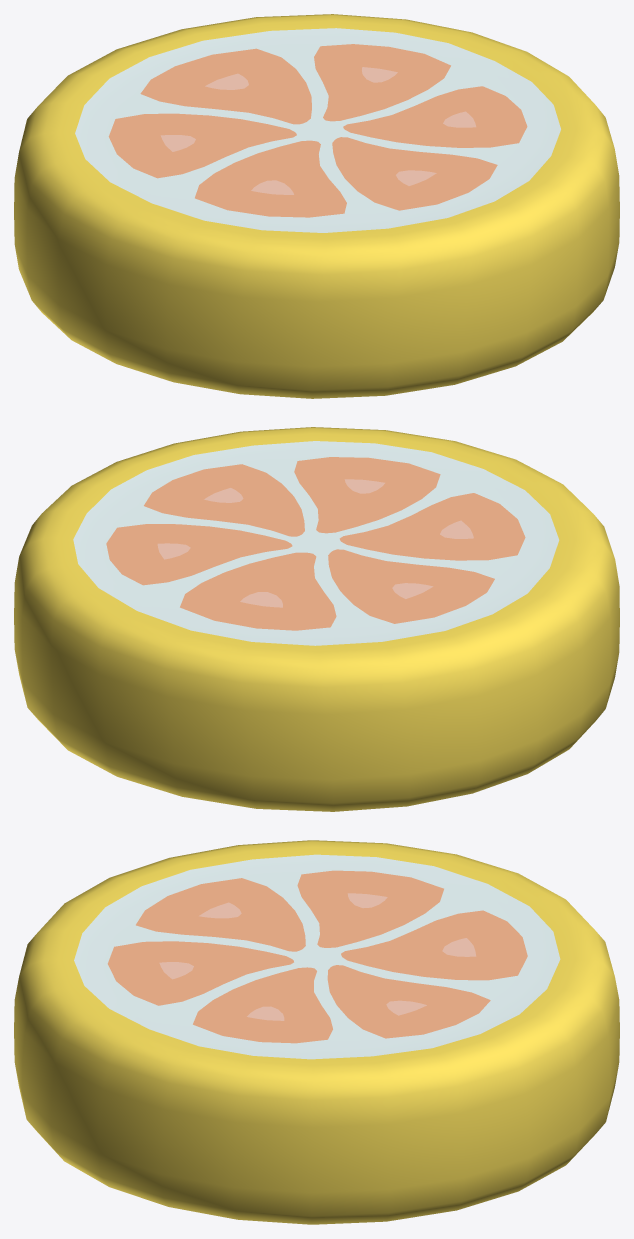
The model's file is Gummy_C_01.fbx.
The picture shows the model from 3 angles, top to bottom: view 1: azimuth 30°, elevation 25°; view 2: azimuth 150°, elevation 25°; view 3: azimuth 270°, elevation 25°; orthographic projection.
Parts seen in each view (by area): view 1: Gummy_C_01_LOD0; view 2: Gummy_C_01_LOD0; view 3: Gummy_C_01_LOD0.
Part boxes in pixels (<box>): Gummy_C_01_LOD0: <box>14,14,619,398</box>; Gummy_C_01_LOD0: <box>14,427,619,811</box>; Gummy_C_01_LOD0: <box>14,840,619,1224</box>.
Size of what is drawn, in the model's own units: 512 by 143 by 513.
